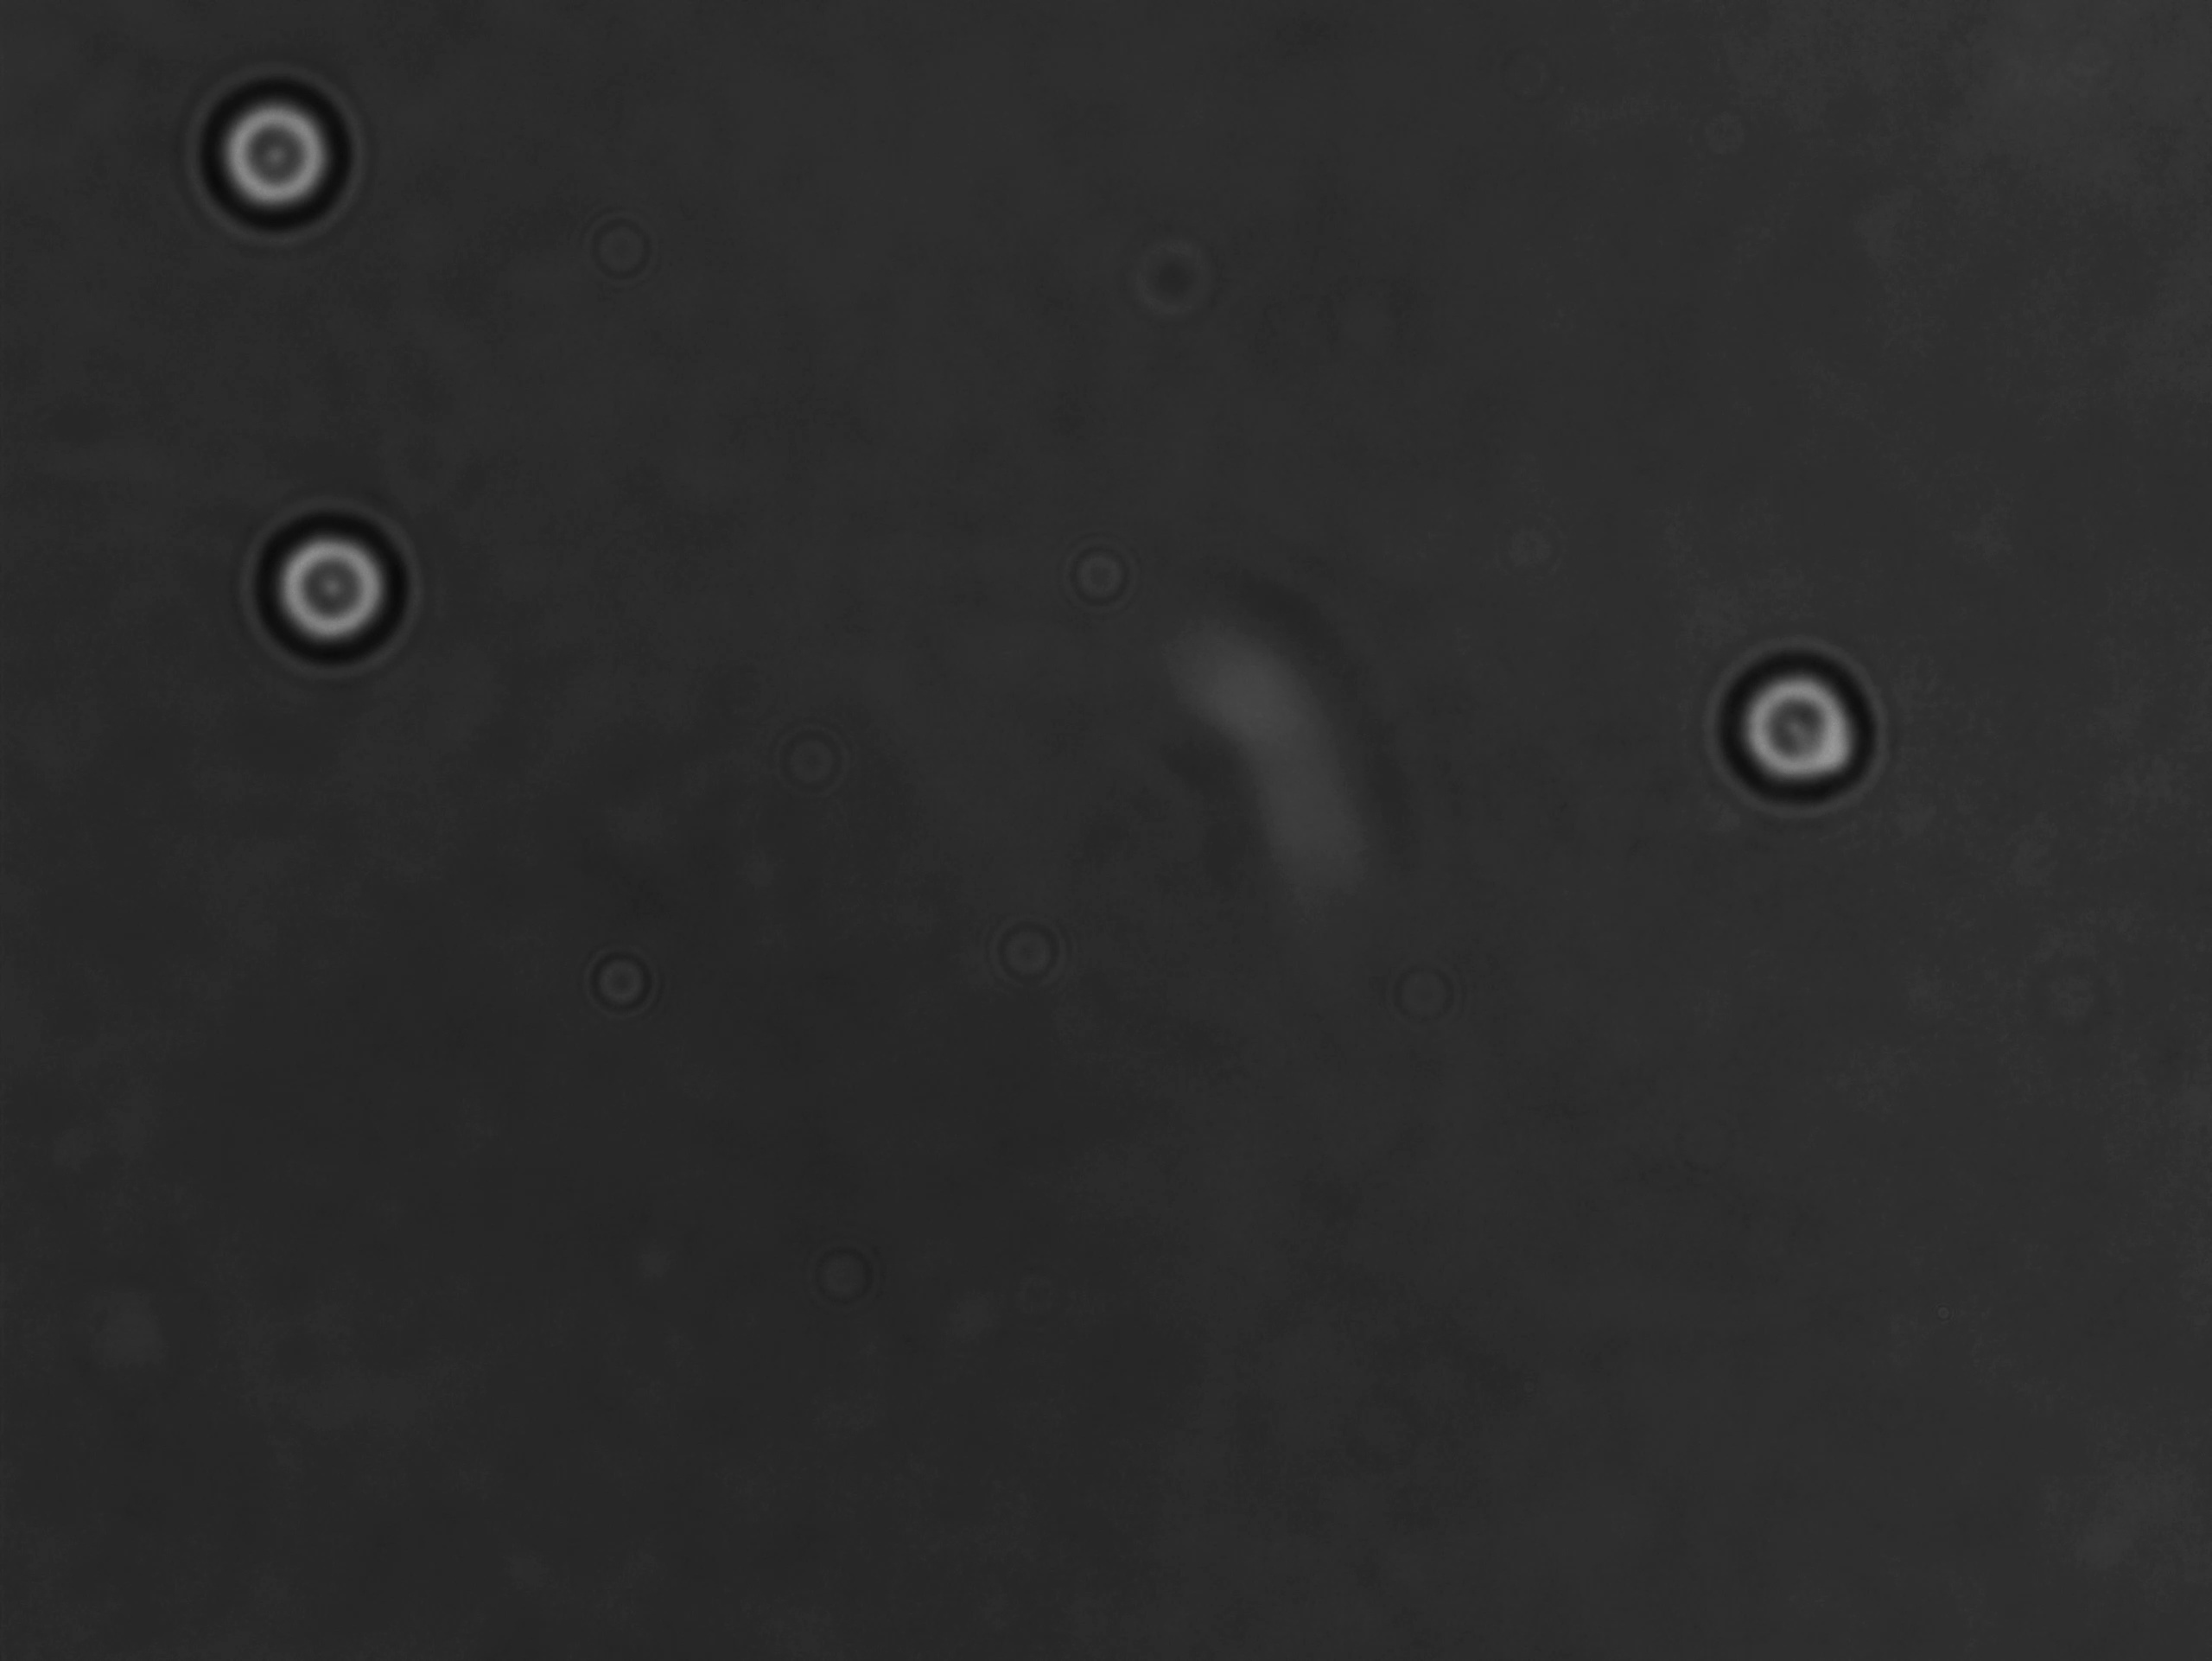depth:40: (190, 73, 372, 243), (253, 513, 413, 679)
